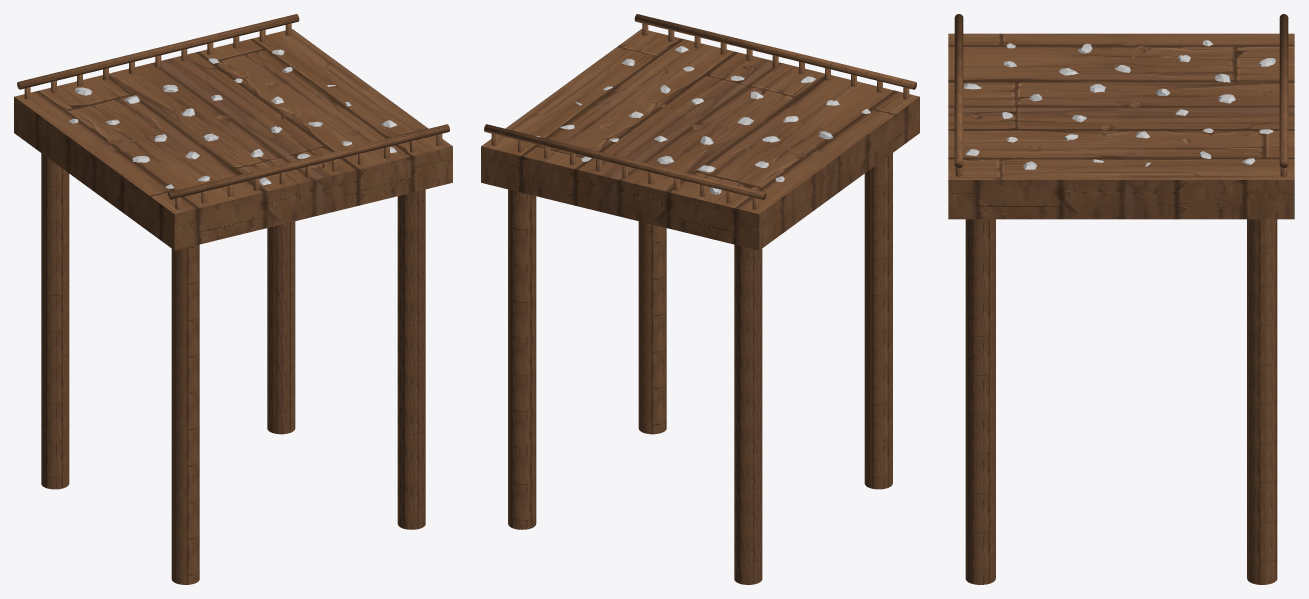
The model's file is Rough16.fbx.
The picture shows the model from 3 angles, left to right: view 1: azimuth 30°, elevation 25°; view 2: azimuth 150°, elevation 25°; view 3: azimuth 270°, elevation 25°; orthographic projection. The views are drawn at different scales.
Parts seen in each view (by area): view 1: pillar.004, Rocks.001; view 2: pillar.004, Rocks.001, Rocks; view 3: pillar.004, Rocks.001, Rocks, Rocks.003.
Boxes of the visible parts, x1,y1,x2,y2 form: pillar.004: (14, 14, 452, 584); Rocks.001: (68, 84, 194, 141); pillar.004: (481, 14, 919, 584); Rocks.001: (657, 136, 784, 194); Rocks: (737, 76, 870, 139); pillar.004: (948, 14, 1294, 584); Rocks.001: (1114, 40, 1275, 103); Rocks: (963, 43, 1105, 101); Rocks.003: (965, 112, 1103, 169).
Size of the model in its own units: 1600 by 2200 by 1600.
